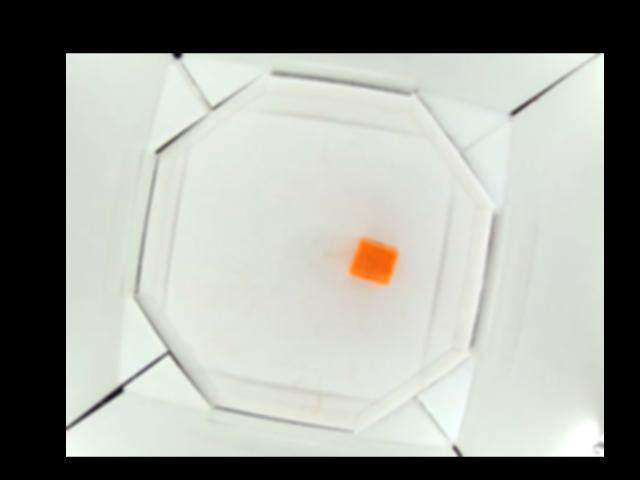Carrot: (349, 238, 397, 285)
